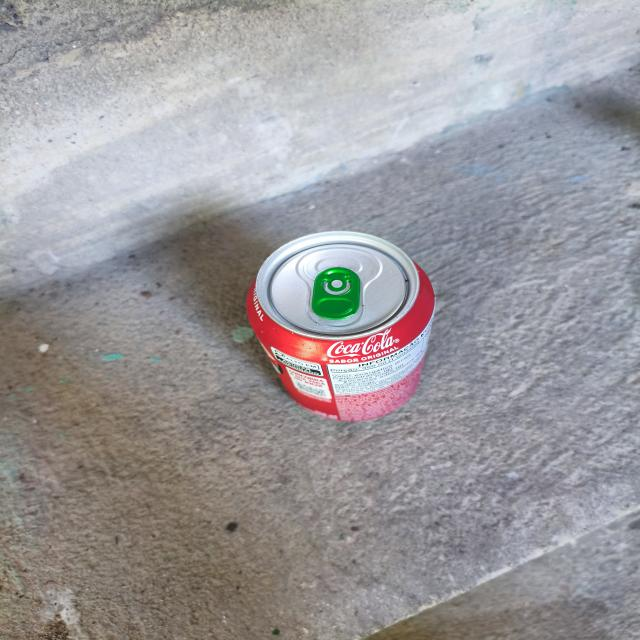Coca Cola: (246, 232, 432, 419)
